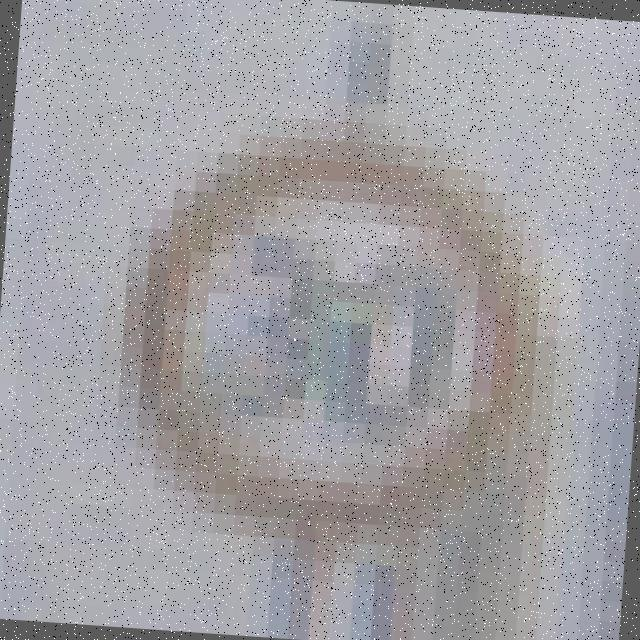Ograniczenie predkosci do 30: (120, 134, 541, 546)
